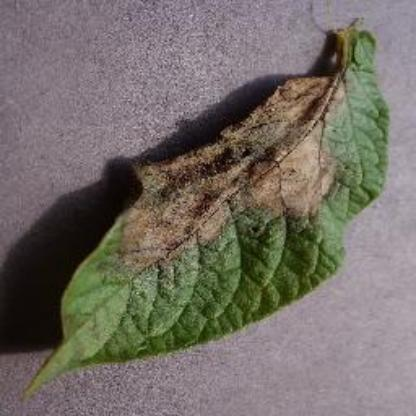Late-Blight: (27, 15, 399, 378)
